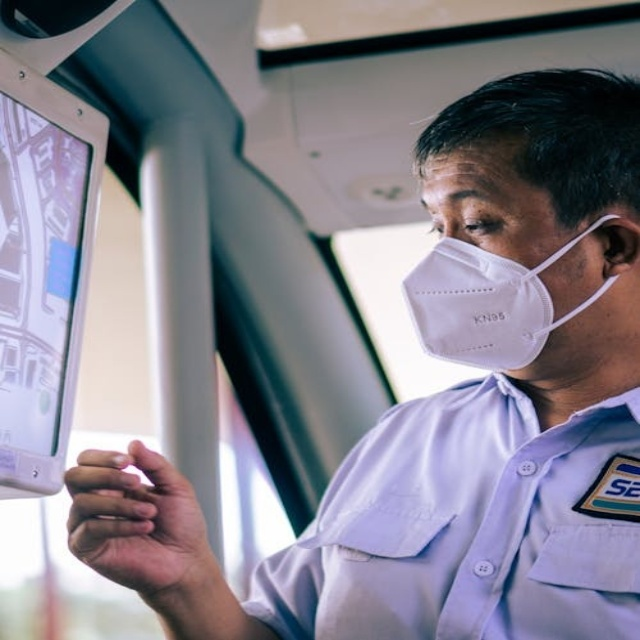Mascara: (403, 212, 626, 372)
Sin_gafas: (413, 193, 548, 245)
Sin_guantes: (63, 441, 217, 597)
